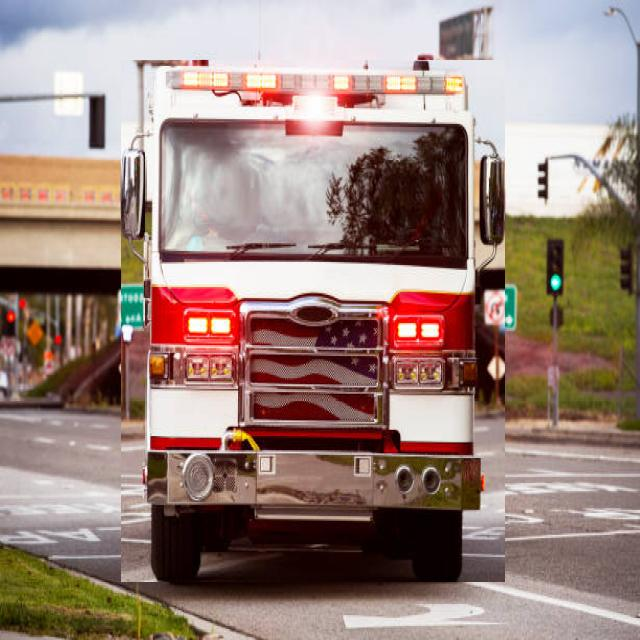emergency: (121, 60, 505, 582)
